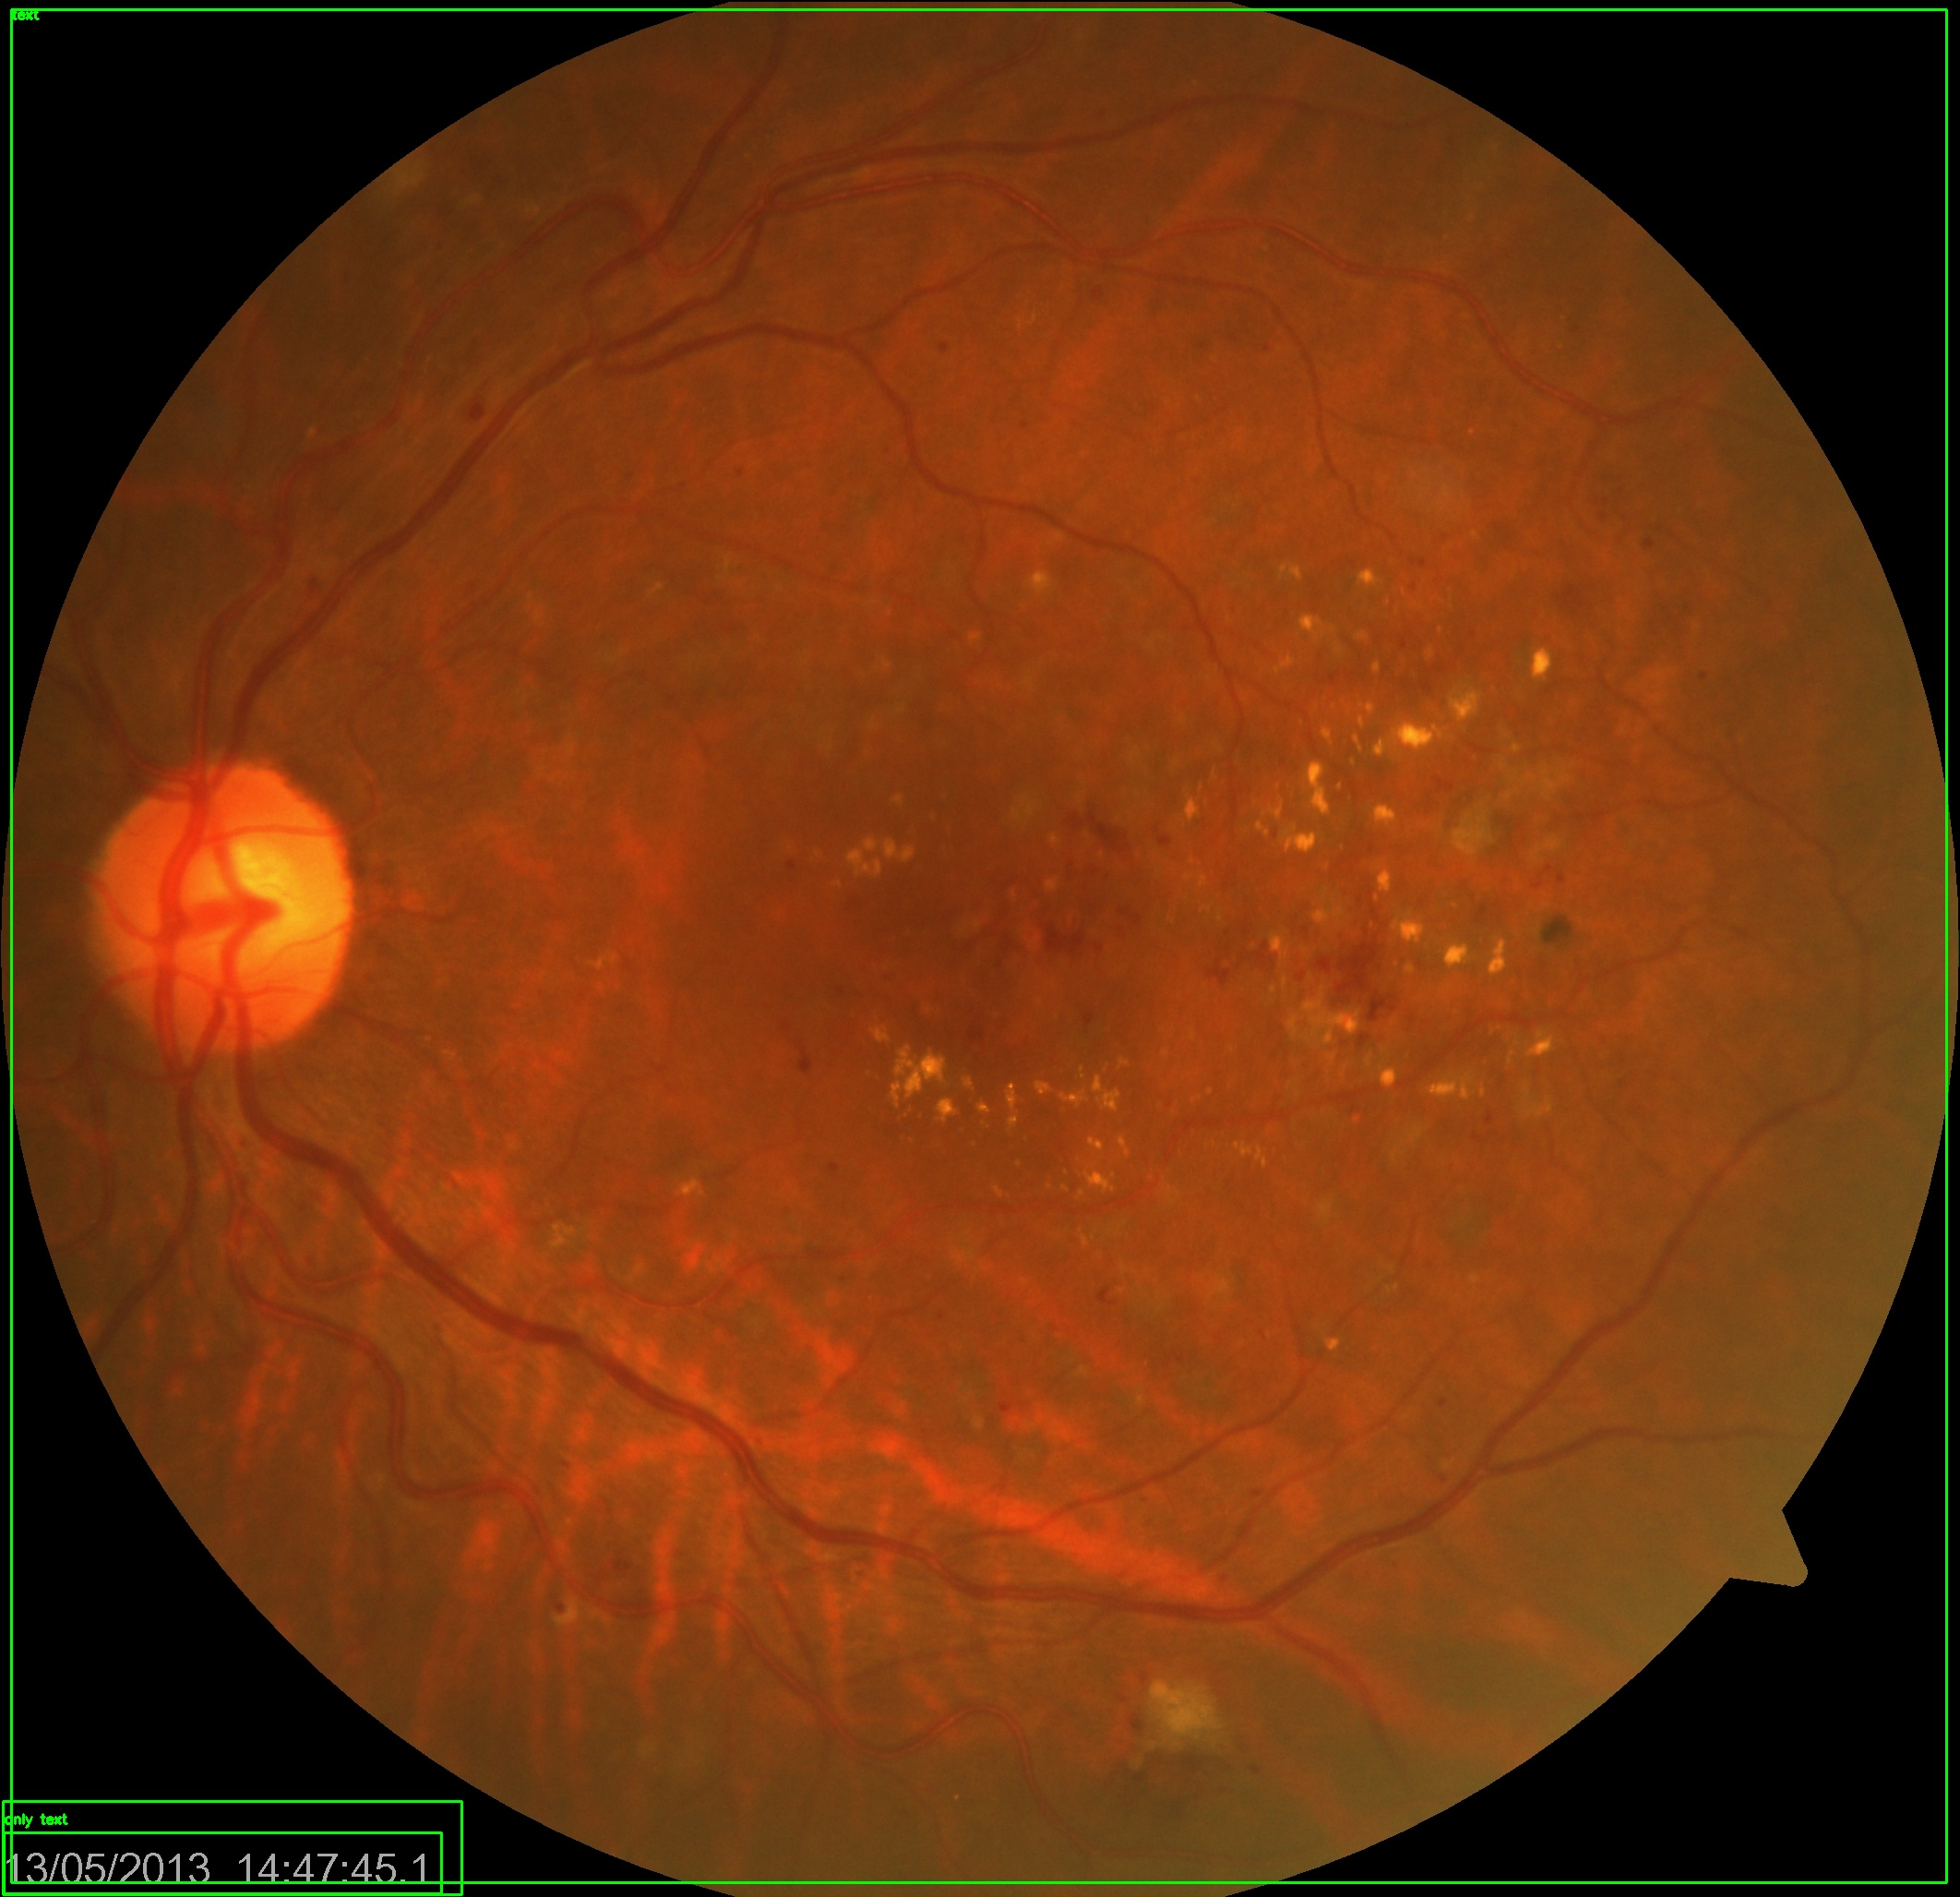text: (10, 9, 1946, 1883), (3, 1801, 462, 1894), (3, 1832, 441, 1894)
